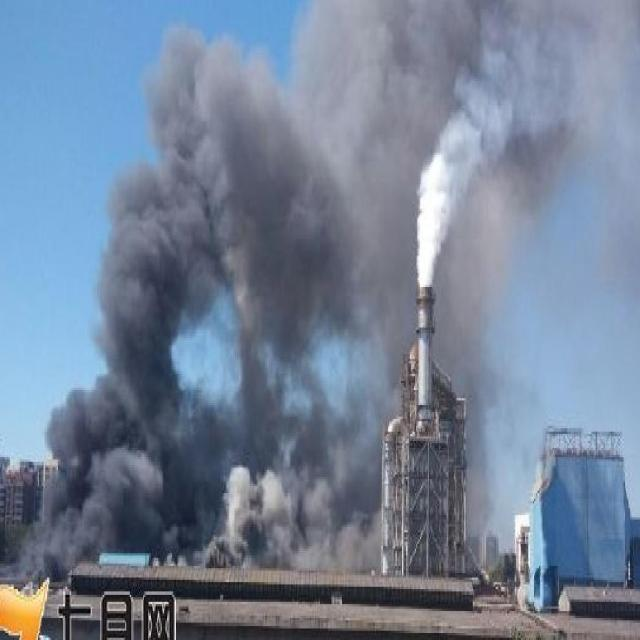Smoke: (13, 1, 640, 592)
